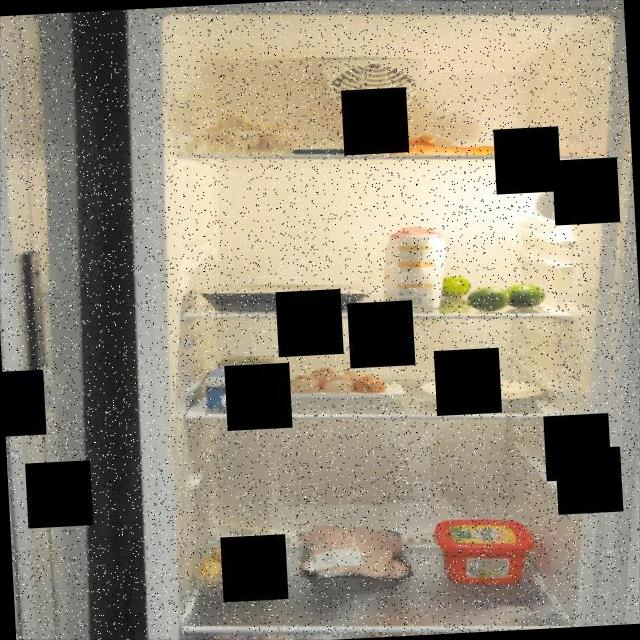Carne pollo: (292, 514, 418, 601)
Champiñones: (197, 105, 306, 162)
Huevos: (287, 359, 391, 405)
Leche: (202, 349, 278, 415)
Mantequilla: (425, 512, 539, 592)
Patata: (188, 536, 290, 602)
Queso: (448, 354, 506, 404)
Zanahoria: (353, 126, 508, 164)
